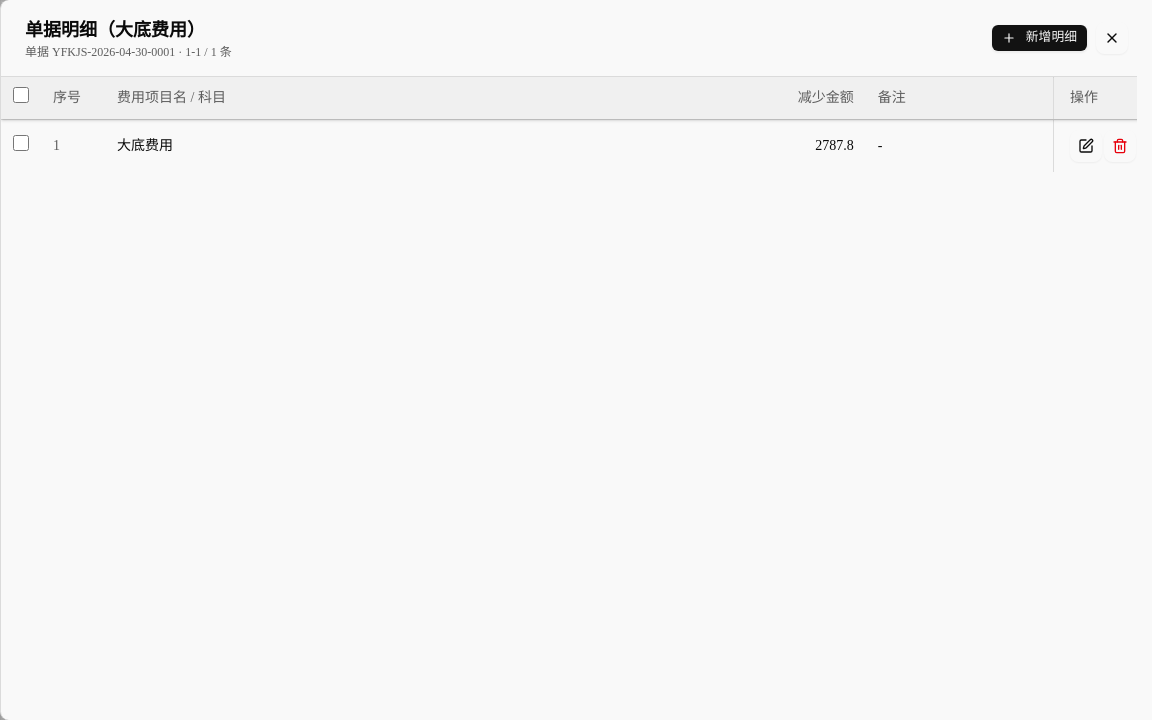
Test: shows a failed save inside the still-open edit dialog
expect the text "大底费用" is shown: met, box [105,120,580,172]
Click the button named "编辑明细": [1086, 146] box [1070,130,1102,162]
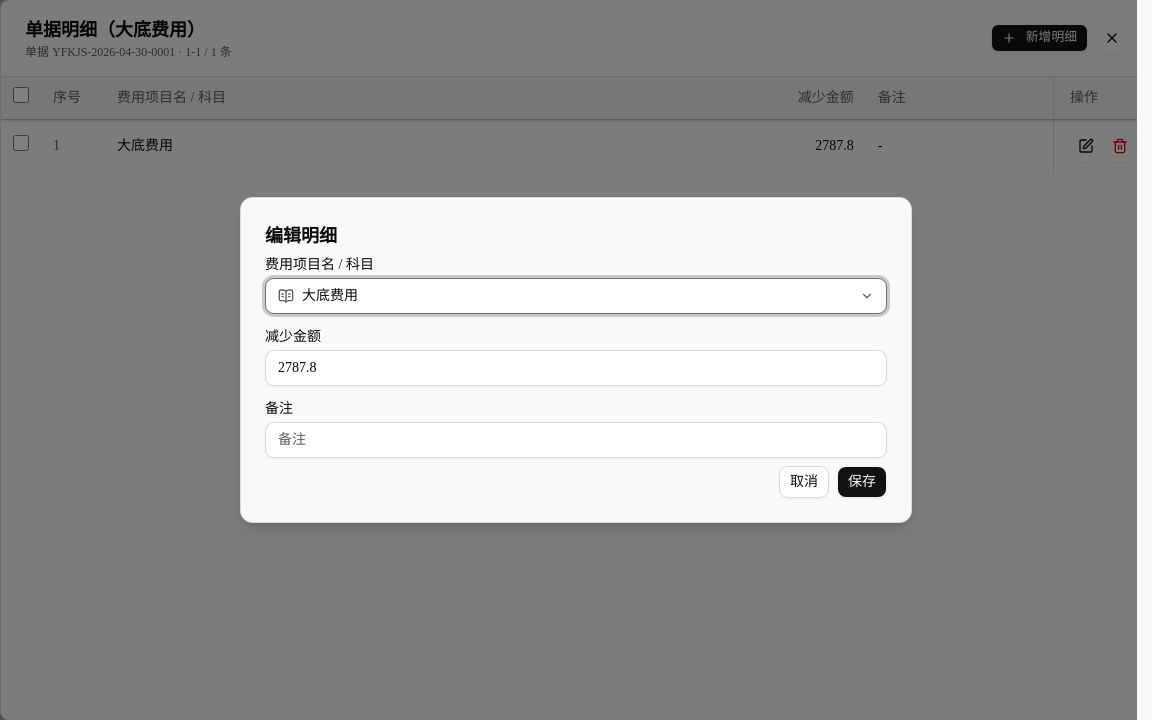
Click the button named "费用项目名 / 科目": [330, 296] box [265,278,887,314]
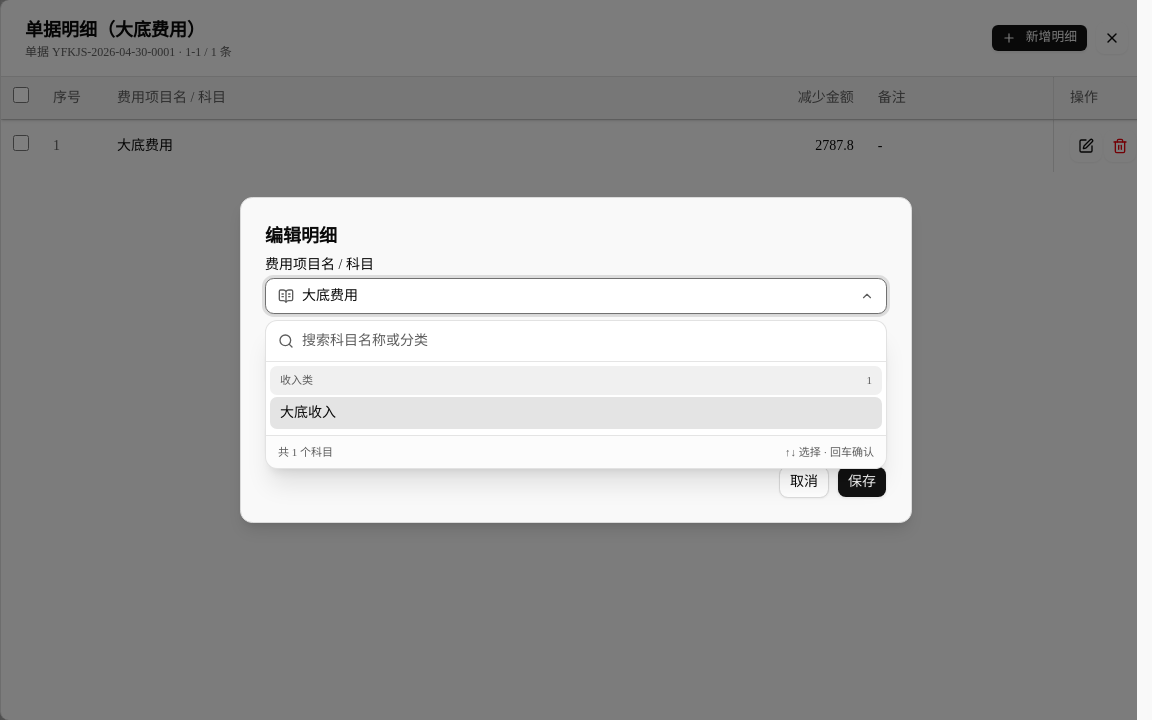
Click the option "大底收入": [308, 412] box [270,396,882,428]
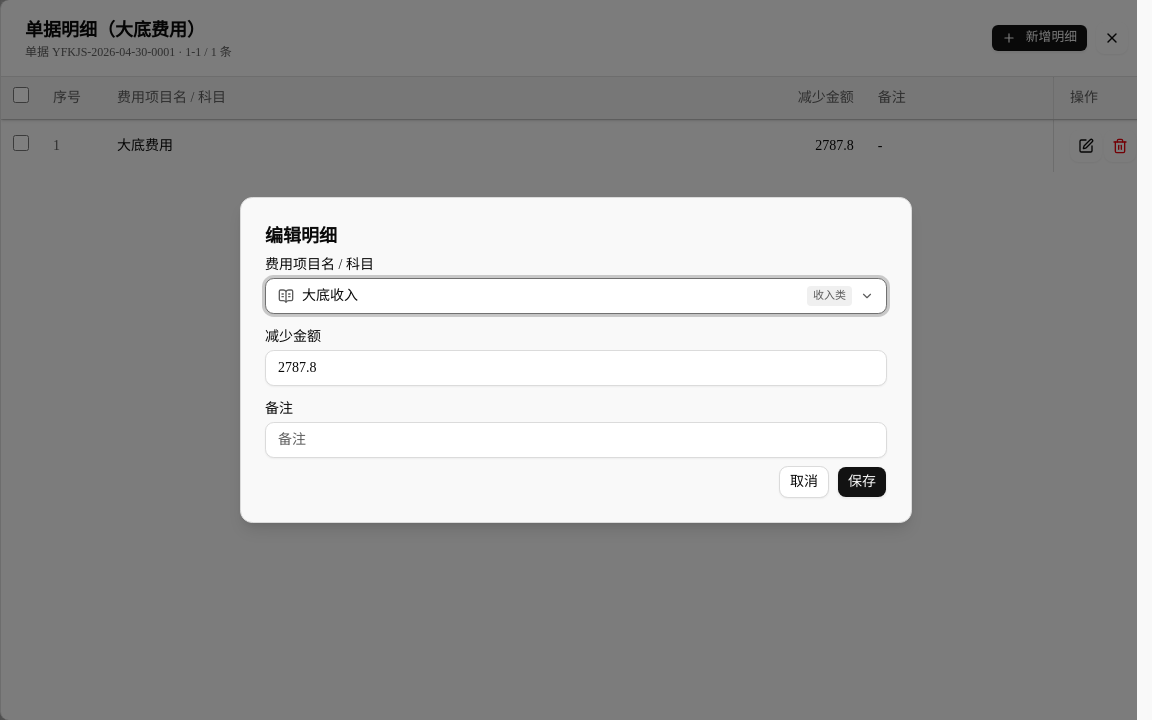
Click the button "保存": [862, 482] box [837,466,887,498]
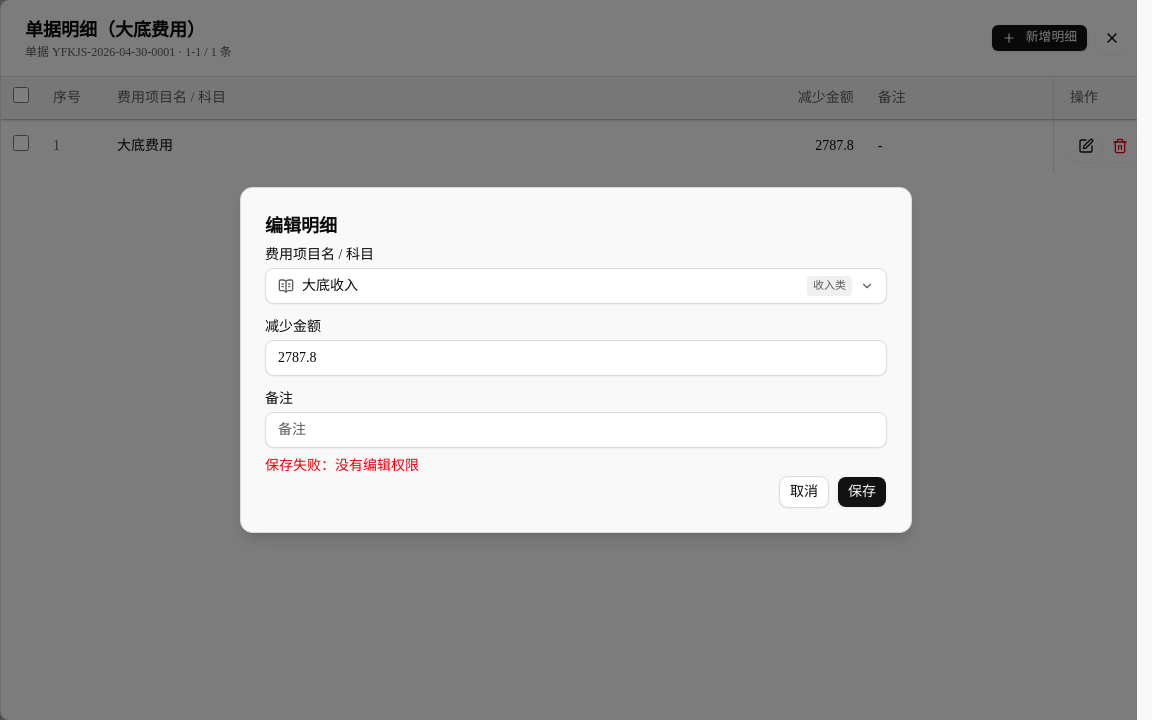
expect the dialog "编辑明细" is shown: met, box [240,187,912,533]
expect the message reads "保存失败：没有编辑权限": met, box [265,458,419,473]
